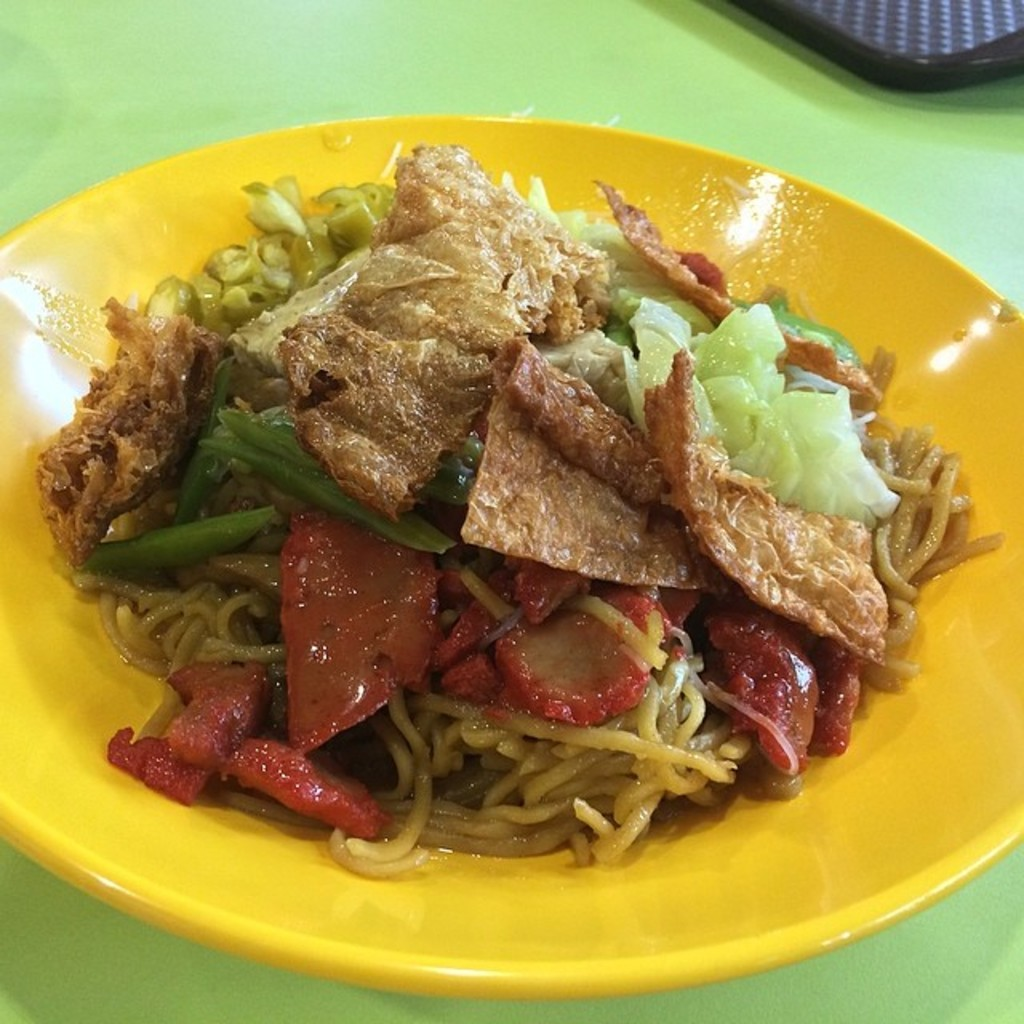salad: (29, 133, 910, 832)
